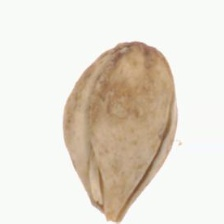L1: (104, 38, 170, 58), (85, 200, 137, 223)
L2: (62, 40, 178, 224)
